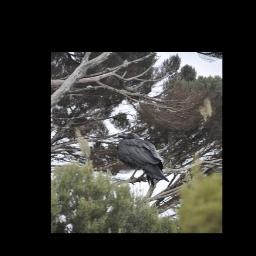Crow: (116, 132, 169, 190)
